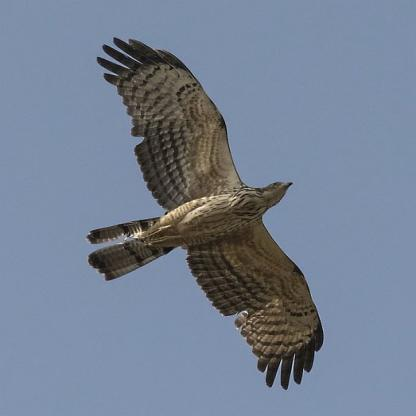Burung: (83, 40, 321, 400)
